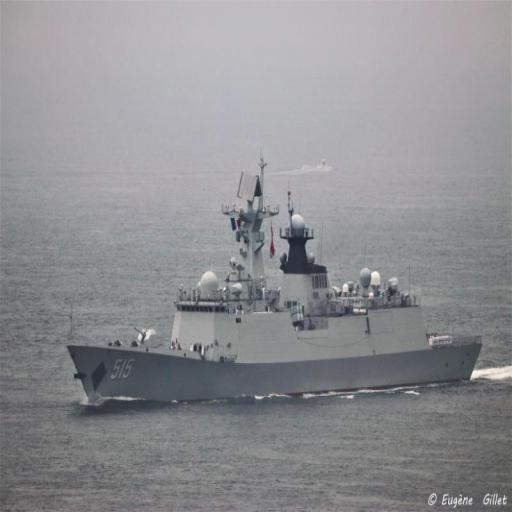Fragata: (67, 149, 483, 408)
